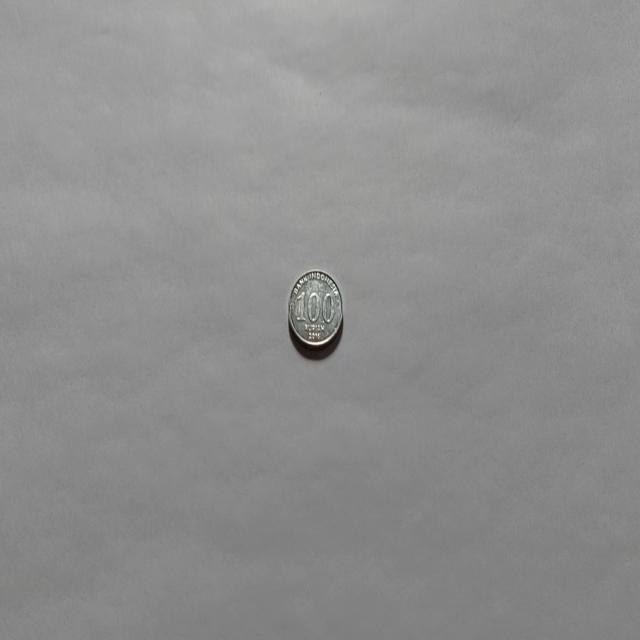seratus rupiah: (287, 268, 343, 350)
